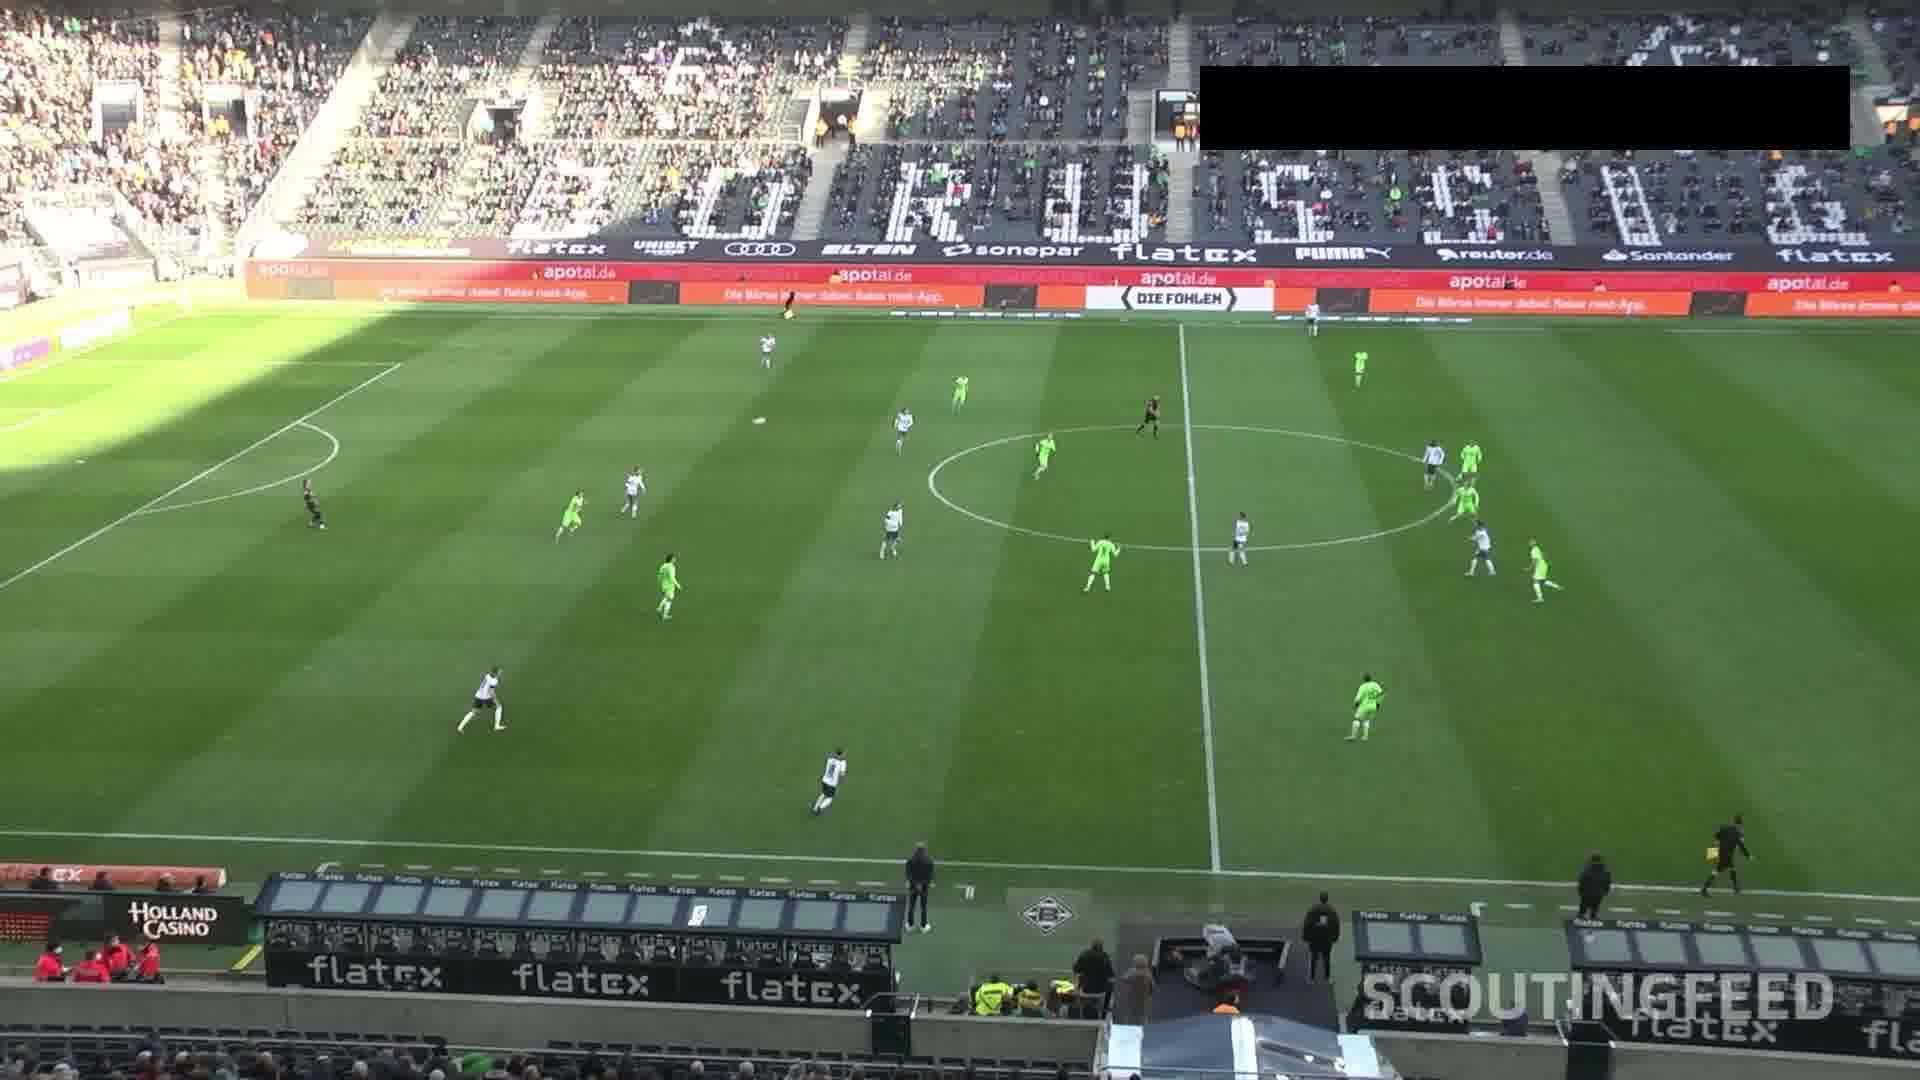football: (752, 417, 767, 425)
